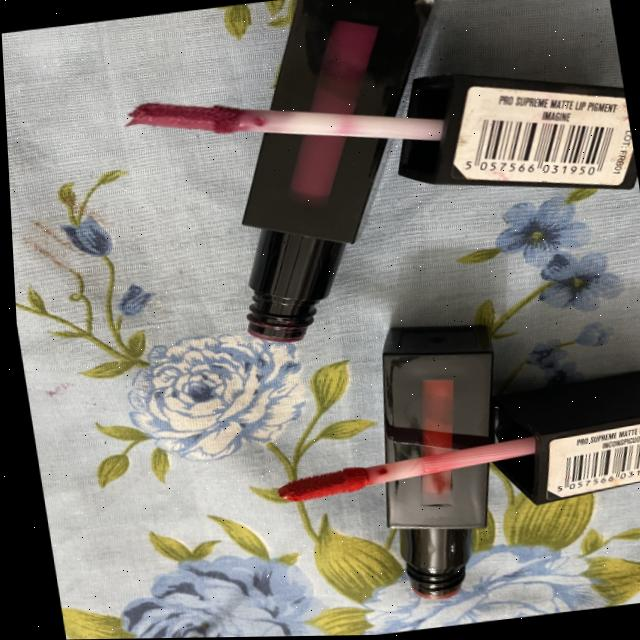lip gloss: (74, 0, 640, 385), (83, 18, 640, 258), (233, 319, 640, 628), (163, 0, 501, 363), (233, 358, 640, 537), (348, 313, 527, 616)
